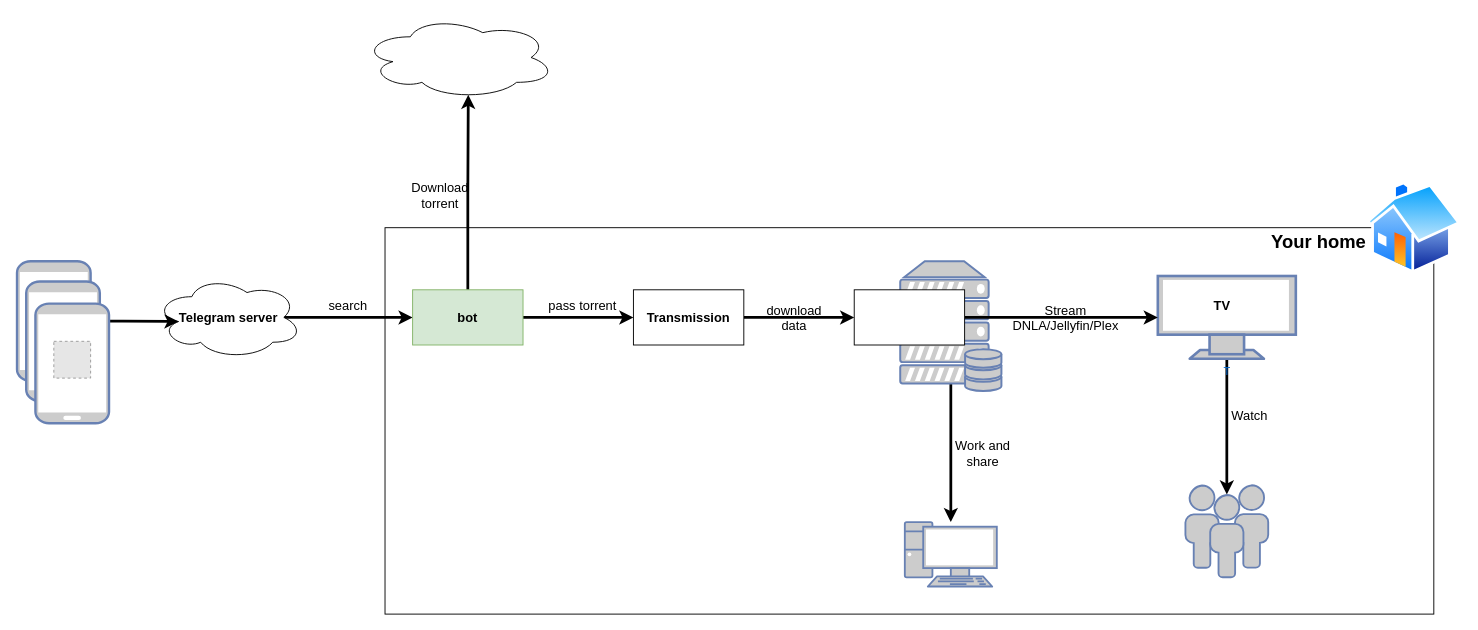
Some shapes in this 1478 by 630 pixel diagram are drawn without their labels. Grey dashed boxes stand in for pictures. The centre of each missing label's shape, as x and y in pixels:
"storage" goes at [909,317].
"Torrent tracker" goes at [458,57].
